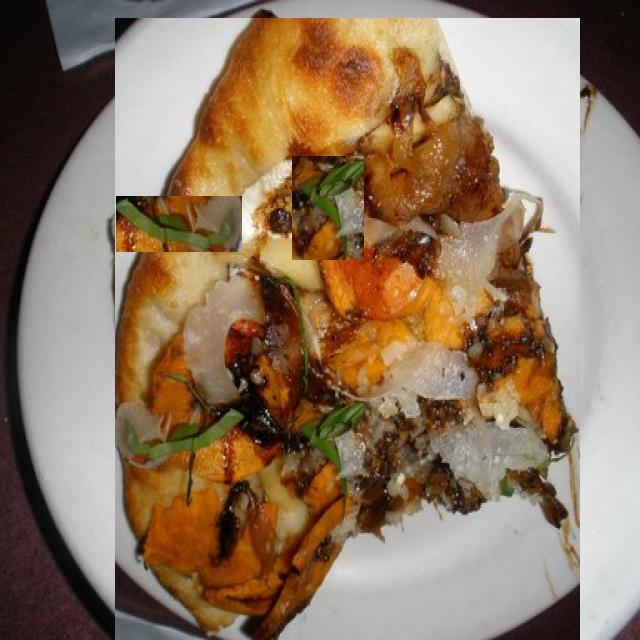basil: (292, 156, 364, 260), (116, 196, 242, 252)
pizza: (115, 18, 580, 640)
